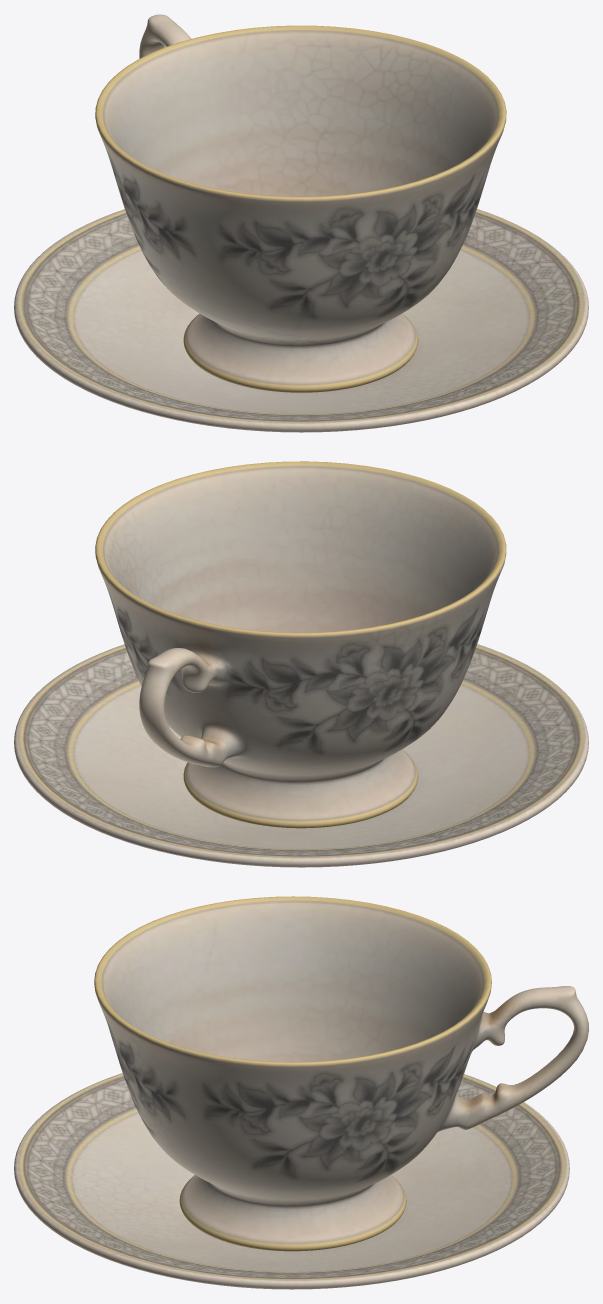
The model's file is DiffuseTransmissionTeacup.glb.
3 views of the same model, one above another, from view 1: azimuth 30°, elevation 25°; view 2: azimuth 150°, elevation 25°; view 3: azimuth 270°, elevation 25° (orthographic). The views are drawn at different scales.
Visible parts, largest first — view 1: tea_cup, tea_saucer; view 2: tea_cup, tea_saucer; view 3: tea_cup, tea_saucer.
Boxes of the visible parts, <box> form: tea_cup: <box>95,14,506,392</box>; tea_saucer: <box>14,209,588,432</box>; tea_cup: <box>95,461,506,828</box>; tea_saucer: <box>14,644,588,867</box>; tea_cup: <box>94,896,588,1251</box>; tea_saucer: <box>14,1073,569,1289</box>.
Size of the model in its own units: 0.1486 by 0.0704 by 0.1537.
Materials: 2 (2 with a texture image).
